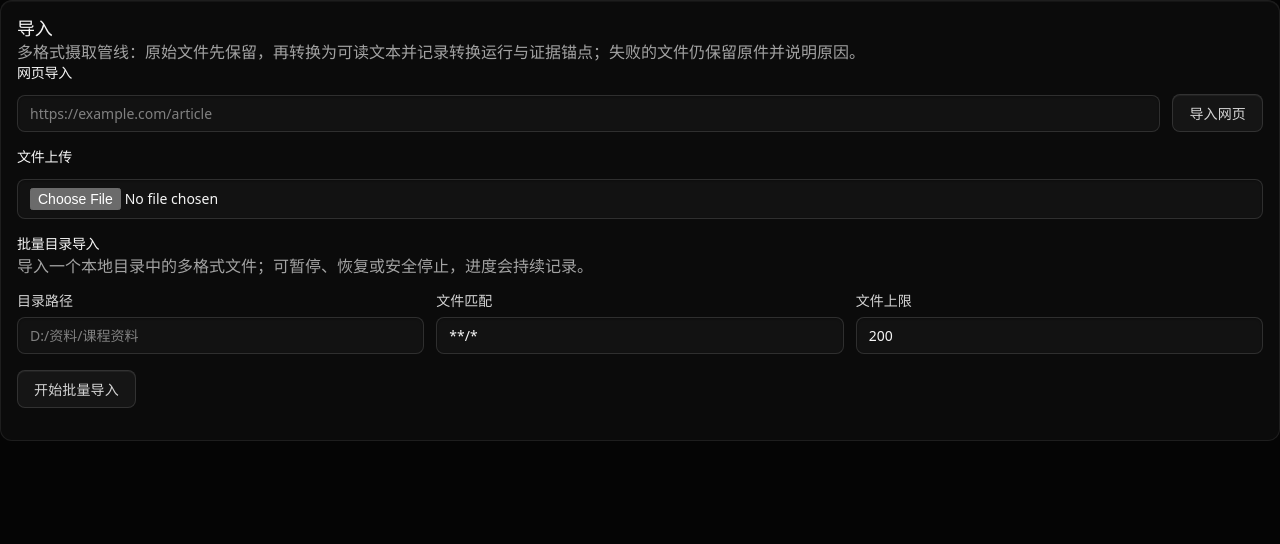
Test case: IntakeSpace › surfaces a conversion failure as an error instead of partial truth
The width and height of the screenshot is (1280, 544).
Type "https://example.com/broken" into the field named "网页地址". click: (589, 113)
box: [17,95,1160,132]
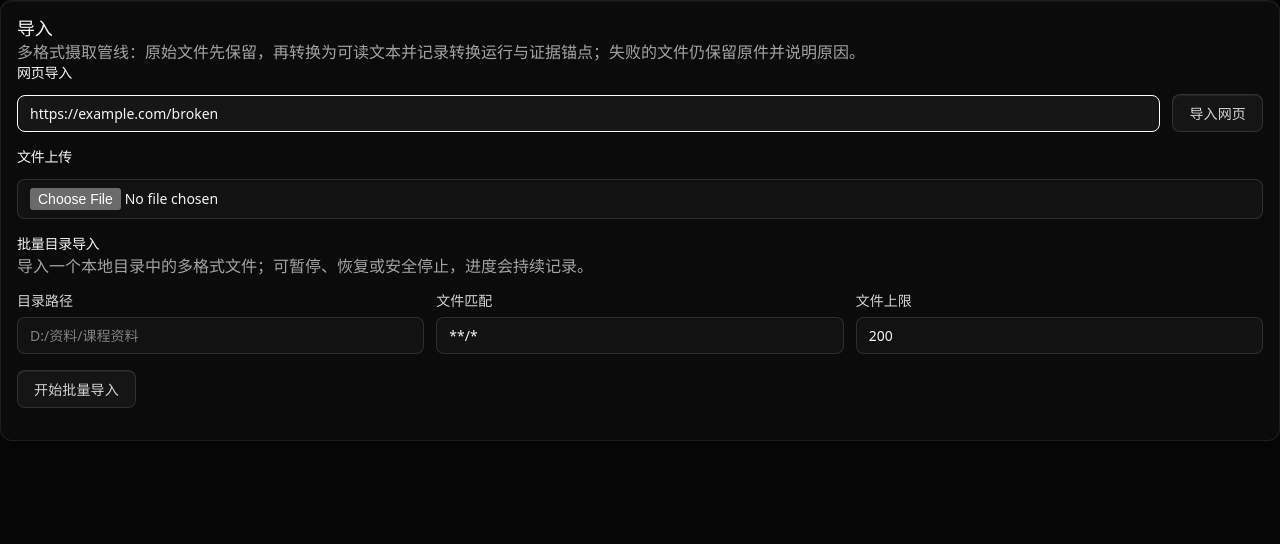
Click the button "导入网页". click: (1218, 113)
box: [1172,94,1263,132]
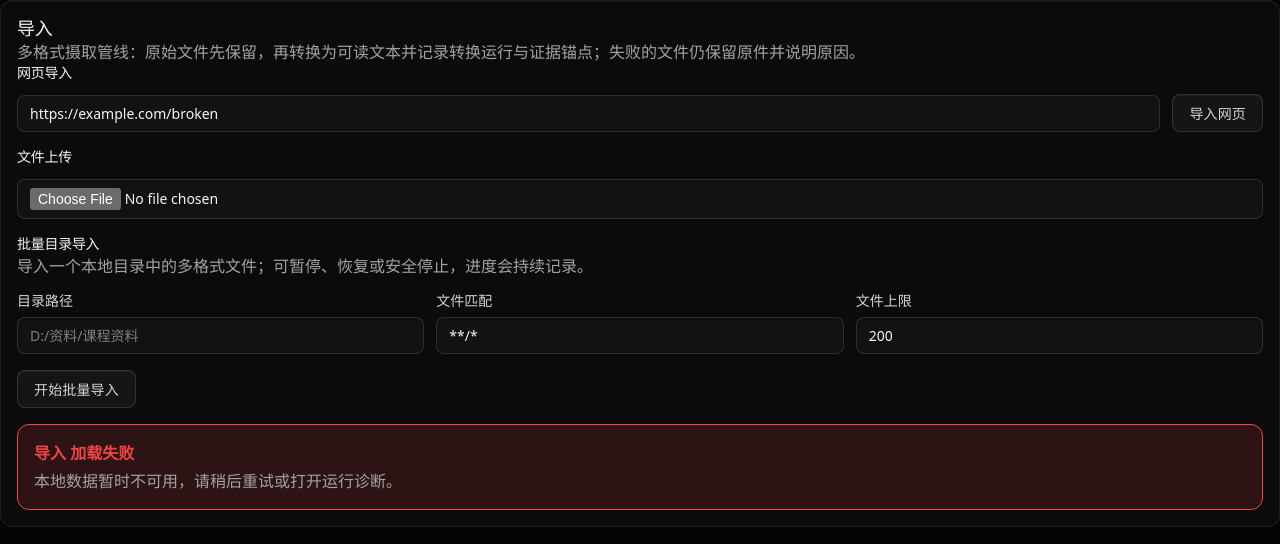
Now the text "本地数据暂时不可用，请稍后重试或打开运行诊断。" is shown, box [34,470,402,492]
